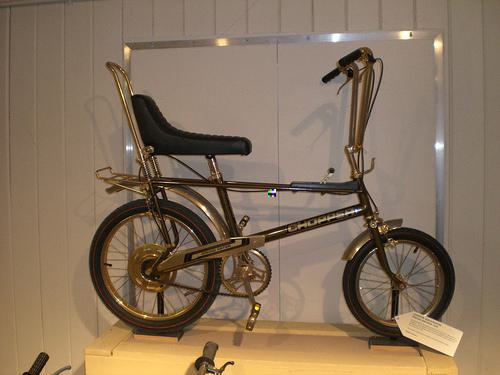car: (89, 47, 456, 339)
